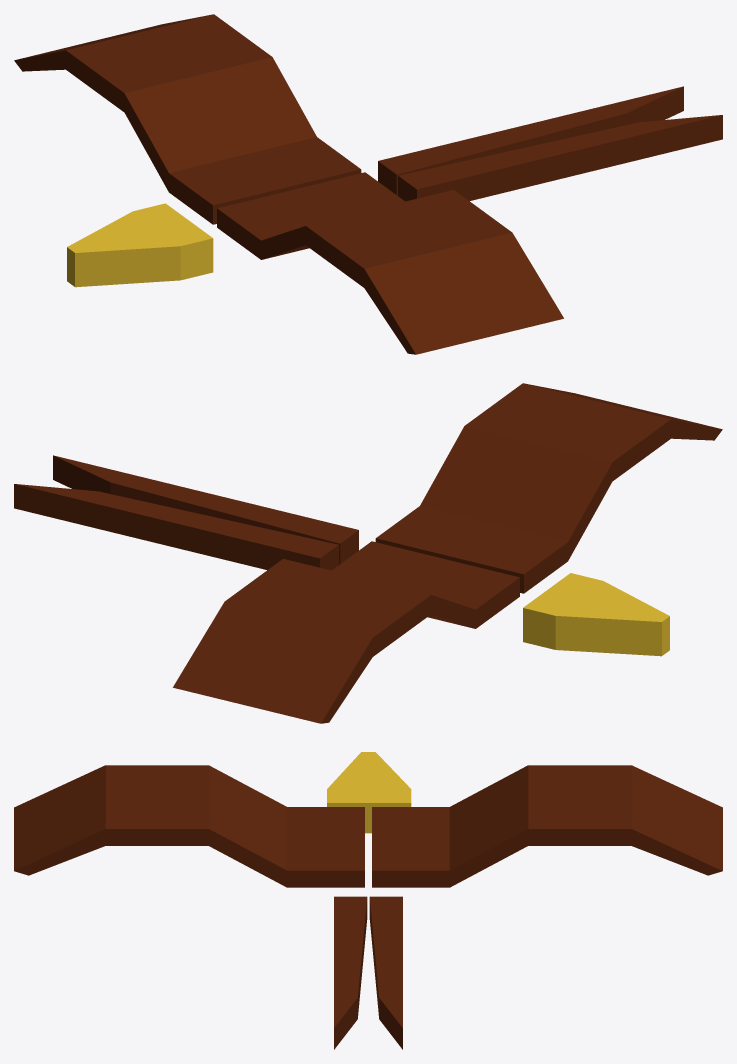
Rendered from high flying bird.glb.
The picture shows the model from 3 angles, top to bottom: view 1: azimuth 30°, elevation 25°; view 2: azimuth 150°, elevation 25°; view 3: azimuth 270°, elevation 25°; orthographic projection. The views are drawn at different scales.
Visible parts, largest first — view 1: bod.001, bod, tail.002, head, tail.001; view 2: bod, bod.001, tail.001, head, tail.002; view 3: bod, bod.001, tail.001, tail.002, head.
Part boxes in pixels (box(x1,y1,x2,y2)): bod.001: box(14, 14, 361, 224); bod: box(217, 172, 563, 354); tail.002: box(398, 115, 722, 201); head: box(67, 203, 213, 287); tail.001: box(378, 86, 683, 195); bod: box(375, 383, 722, 593); bod.001: box(173, 541, 519, 723); tail.001: box(14, 484, 338, 570); head: box(523, 573, 669, 656); tail.002: box(53, 455, 358, 564); bod: box(14, 765, 364, 887); bod.001: box(372, 765, 722, 887); tail.001: box(369, 896, 402, 1049); tail.002: box(334, 896, 367, 1049); head: box(327, 752, 411, 833).
Bounding box in the file's own units: 38.72 × 5.24 × 42.65.
